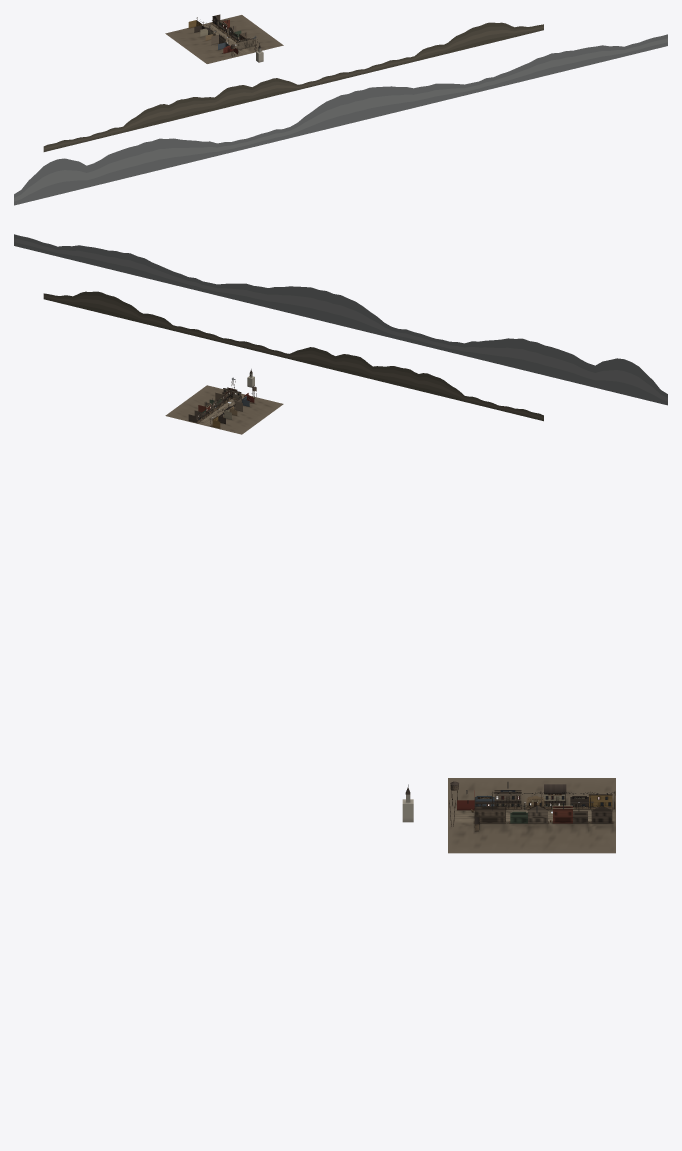
The model's file is town.glb.
3 renders of one model, top to bottom at view 1: azimuth 30°, elevation 25°; view 2: azimuth 150°, elevation 25°; view 3: azimuth 270°, elevation 25°, orthographic. The views are drawn at different scales.
Parts seen in each view (by area): view 1: S_Paint; view 2: S_Paint; view 3: S_Paint.
Part boxes in pixels (bbox=[...]): S_Paint: bbox=[14, 14, 667, 205]; S_Paint: bbox=[14, 234, 667, 434]; S_Paint: bbox=[402, 778, 615, 853].
Bounding box in the file's own units: 680 × 35.39 × 248.
